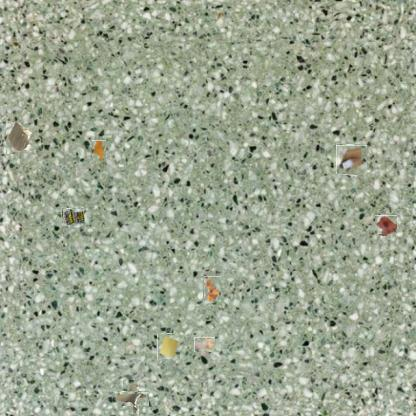dirty: (6, 122, 34, 154), (336, 145, 366, 174), (118, 385, 144, 411), (157, 333, 180, 359), (203, 276, 221, 303), (62, 208, 84, 226), (196, 336, 214, 354)
liquid: (376, 215, 397, 235), (92, 140, 106, 161)
